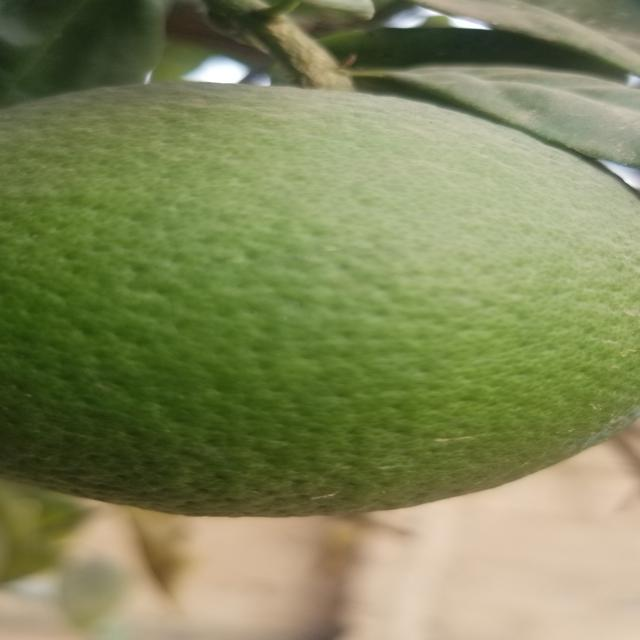Unripe: (0, 78, 630, 517)
